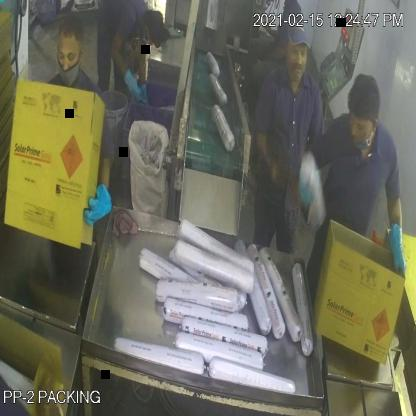glove: (67, 174, 121, 238), (387, 210, 412, 291), (121, 64, 152, 104)
no_glove: (248, 111, 288, 196)
